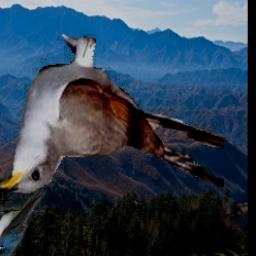Cuckoo: (0, 35, 224, 194)
Swallow: (0, 189, 44, 256)
